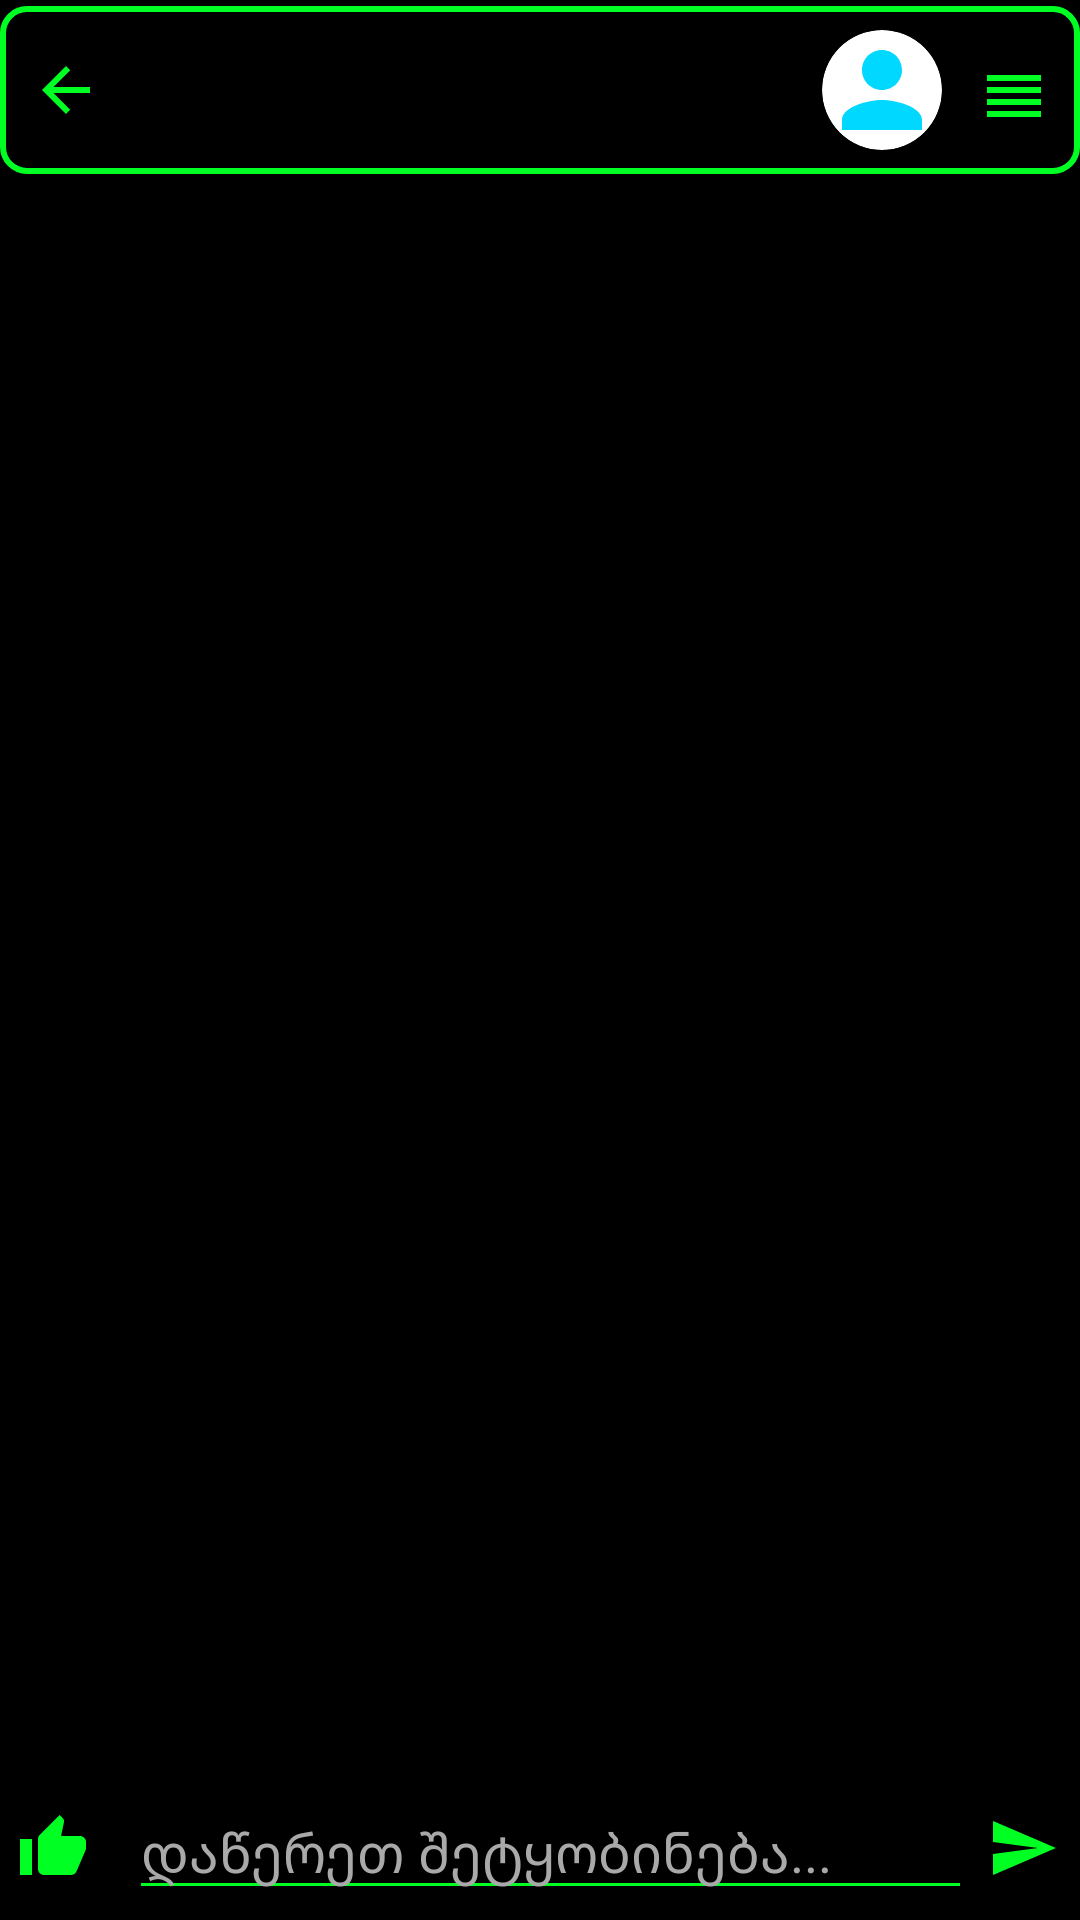

Icons on this 1080 × 1920 Android screen, each with its box as (x1, y1, x2, y2):
arrow back: (42, 66, 90, 114)
like: (20, 1815, 86, 1875)
Profile Image: (822, 30, 942, 150)
reorder: (987, 75, 1041, 117)
send: (993, 1821, 1056, 1875)
